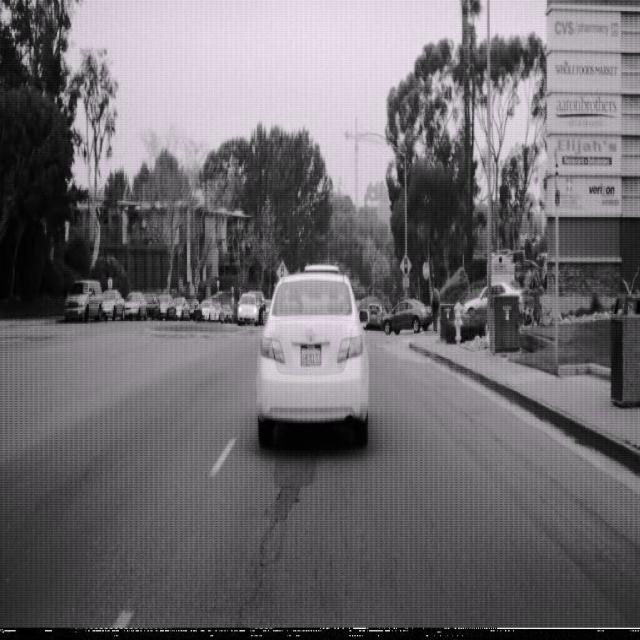stop_sign: (422, 260, 430, 281)
